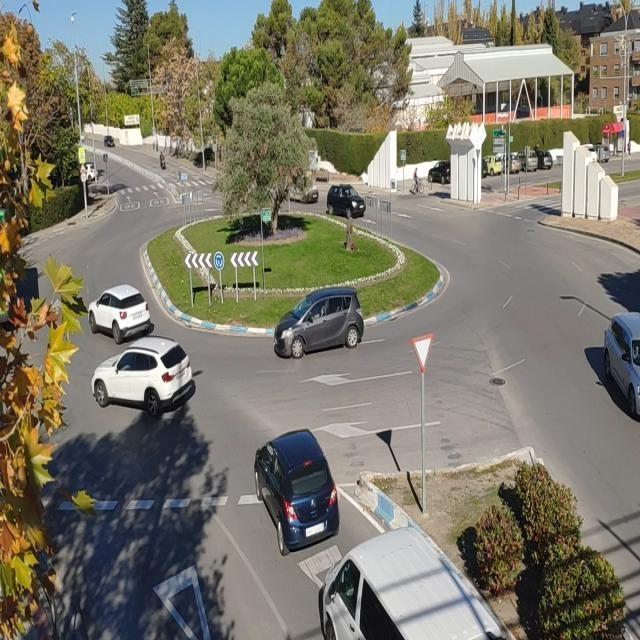Car: (323, 528, 515, 640), (241, 427, 352, 547), (266, 280, 370, 369), (85, 336, 208, 411), (588, 302, 640, 409), (82, 280, 158, 338), (324, 181, 386, 223), (96, 129, 118, 154)
